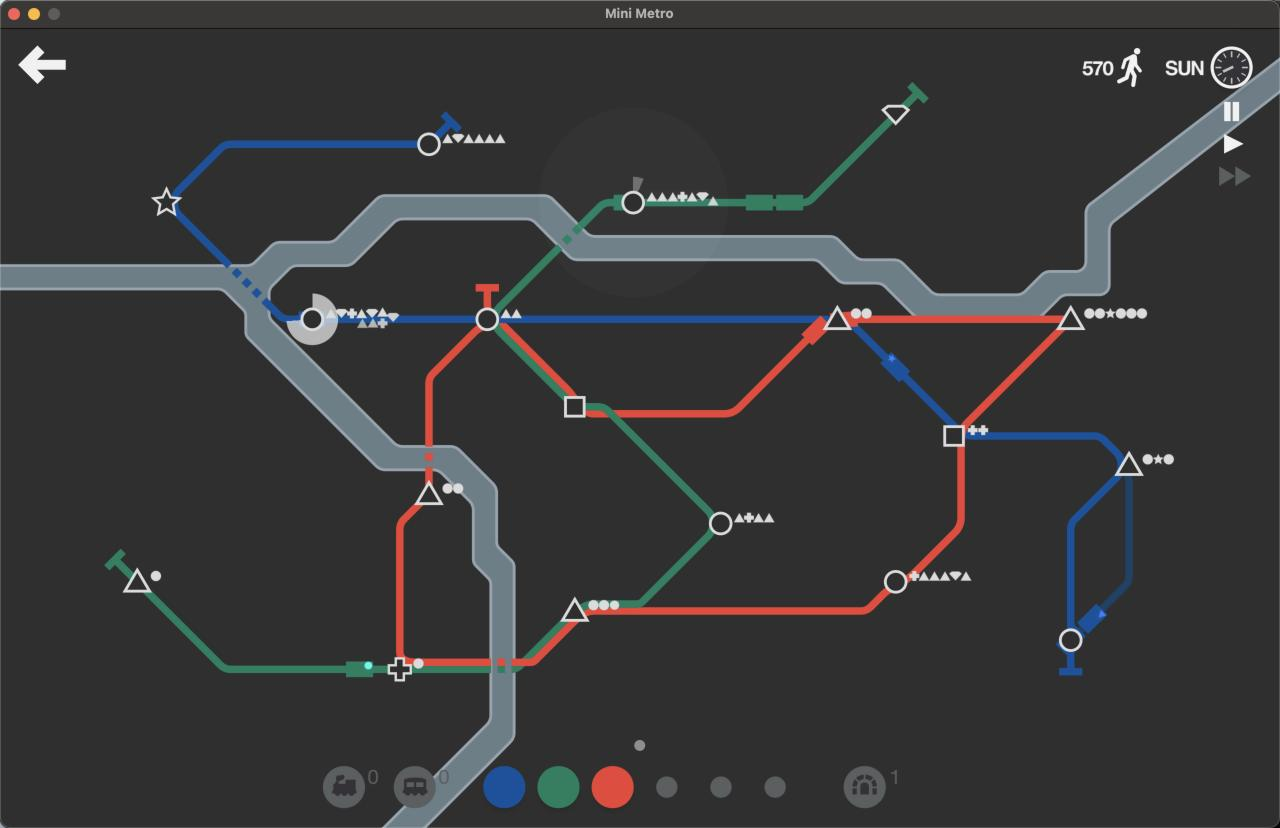CIRCLE: (299, 306, 326, 333), (417, 131, 442, 157), (620, 190, 646, 215), (474, 307, 500, 332), (883, 569, 908, 595), (1058, 627, 1083, 653), (708, 511, 733, 536)
CROSS: (387, 656, 412, 682)
DIAMOND: (881, 103, 910, 125)
SQUARE: (563, 395, 586, 418), (943, 424, 965, 448)
STAR: (151, 186, 182, 217)
TRIANGLE: (123, 567, 154, 594), (1114, 450, 1144, 477), (823, 304, 852, 331), (414, 481, 444, 507), (561, 596, 589, 623), (1057, 304, 1085, 330)
